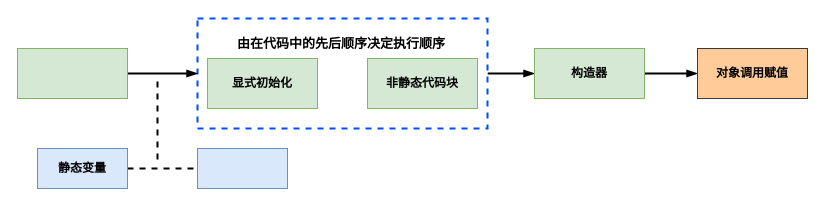
The diagram is 825 pixels wide and 206 high, and some of its shapes have lost their labels. Here are the shapes that lost their labels. From the top down, the box of each, then its label:
(16, 48, 128, 98): 默认初始化
(196, 148, 288, 188): 静态代码块
